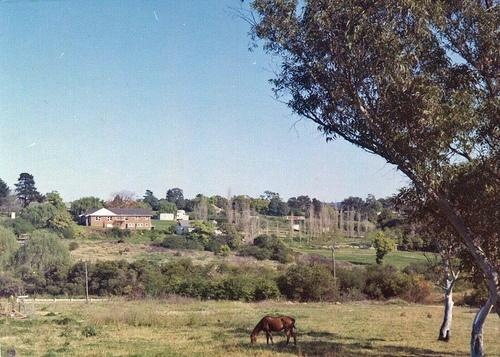horse: (249, 313, 301, 351)
